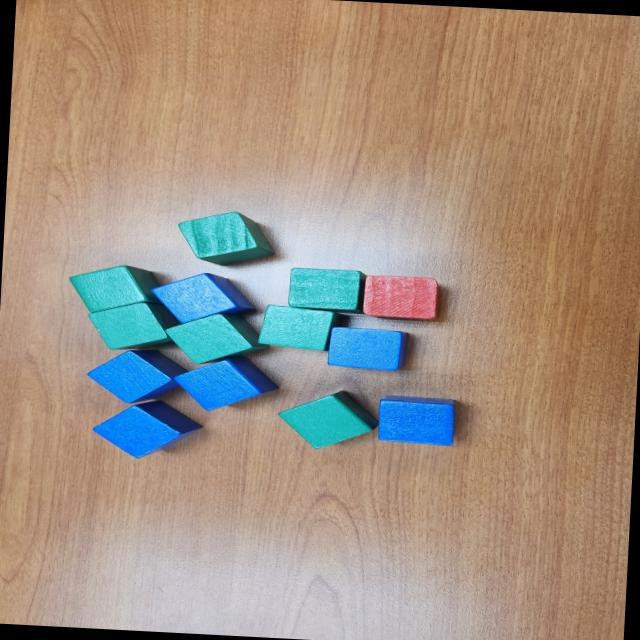blue: (90, 397, 206, 462), (173, 351, 280, 414), (148, 270, 258, 330), (86, 346, 192, 407), (377, 394, 458, 448), (324, 326, 410, 372)
green: (276, 387, 382, 453), (170, 208, 278, 268), (163, 310, 273, 368), (67, 262, 166, 316), (86, 298, 180, 354), (256, 304, 350, 352), (285, 266, 367, 314)
red: (360, 274, 442, 322)
